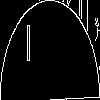I: (25, 25, 32, 70)
